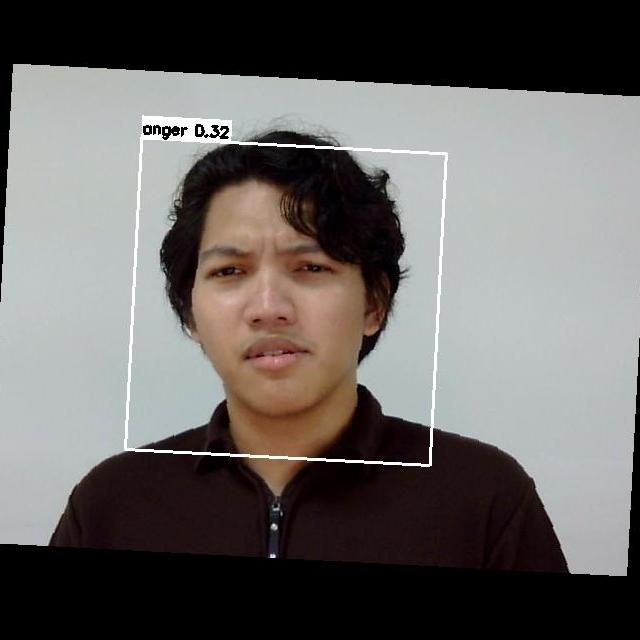Fear: (179, 215, 375, 388)
